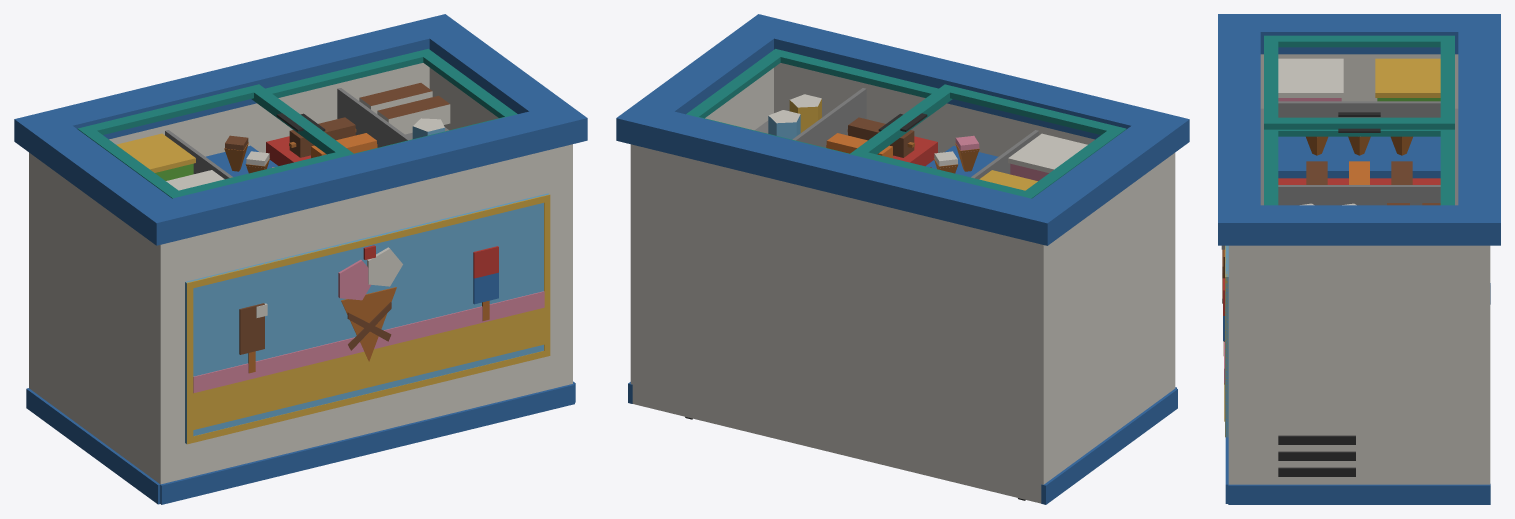
File: dondurma_dolabi.glb
3 views of the same model, side by side, from view 1: azimuth 30°, elevation 25°; view 2: azimuth 150°, elevation 25°; view 3: azimuth 270°, elevation 25° (orthographic).
Parts seen in each view (by area): view 1: dondurma_dolabi; view 2: dondurma_dolabi; view 3: dondurma_dolabi.
Part boxes in pixels (left/top/right/bottom): dondurma_dolabi: left=14, top=14, right=587, bottom=504; dondurma_dolabi: left=616, top=14, right=1189, bottom=504; dondurma_dolabi: left=1218, top=14, right=1500, bottom=504.
Size of the model in its own units: 1.4 by 0.9488 by 0.8.
